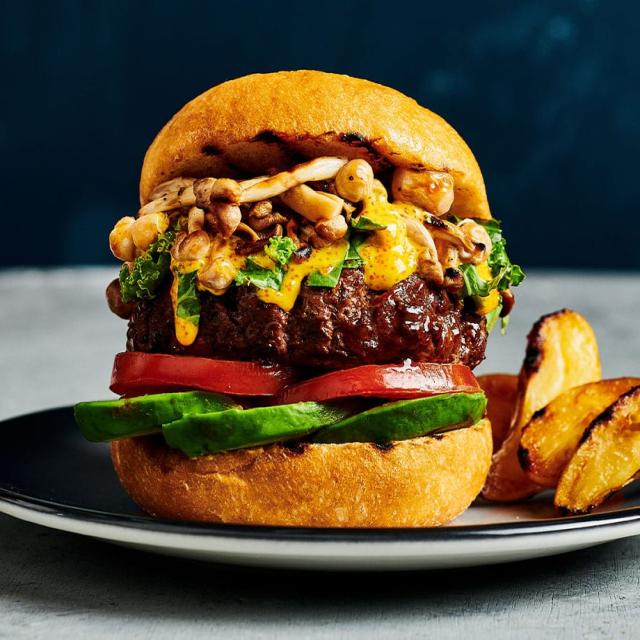burger: (69, 54, 522, 526)
